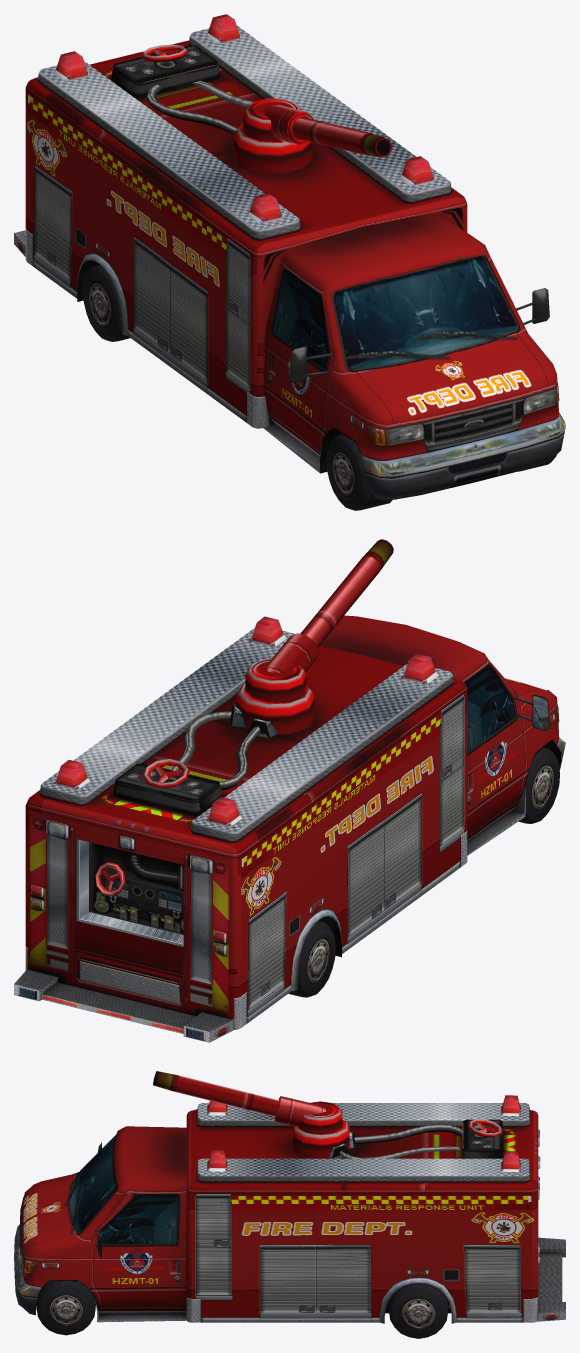
Rendered from pl_firetruck.fbx.
3 views of the same model, one above another, from view 1: azimuth 30°, elevation 25°; view 2: azimuth 150°, elevation 25°; view 3: azimuth 270°, elevation 25° (orthographic). The views are drawn at different scales.
Parts seen in each view (by area): view 1: pl_fire_truck, truck_cannon, truck_wheel_fr, truck_wheel_b; view 2: pl_fire_truck, truck_cannon, truck_wheel_b, truck_wheel_fr; view 3: pl_fire_truck, truck_cannon, truck_wheel_b, truck_wheel_fl.
Boxes of the visible parts, x1=… form: pl_fire_truck: x1=14, y1=14, x2=565, y2=500; truck_cannon: x1=243, y1=98, x2=391, y2=157; truck_wheel_fr: x1=326, y1=434, x2=392, y2=510; truck_wheel_b: x1=83, y1=265, x2=130, y2=341; pl_fire_truck: x1=14, y1=615, x2=565, y2=1042; truck_cannon: x1=245, y1=539, x2=393, y2=702; truck_wheel_b: x1=288, y1=920, x2=335, y2=997; truck_wheel_fr: x1=519, y1=747, x2=559, y2=823; pl_fire_truck: x1=14, y1=1095, x2=565, y2=1323; truck_cannon: x1=153, y1=1071, x2=342, y2=1134; truck_wheel_b: x1=389, y1=1283, x2=447, y2=1338; truck_wheel_fl: x1=36, y1=1280, x2=95, y2=1335.
Size of the model in its own units: 251 by 279 by 612.
